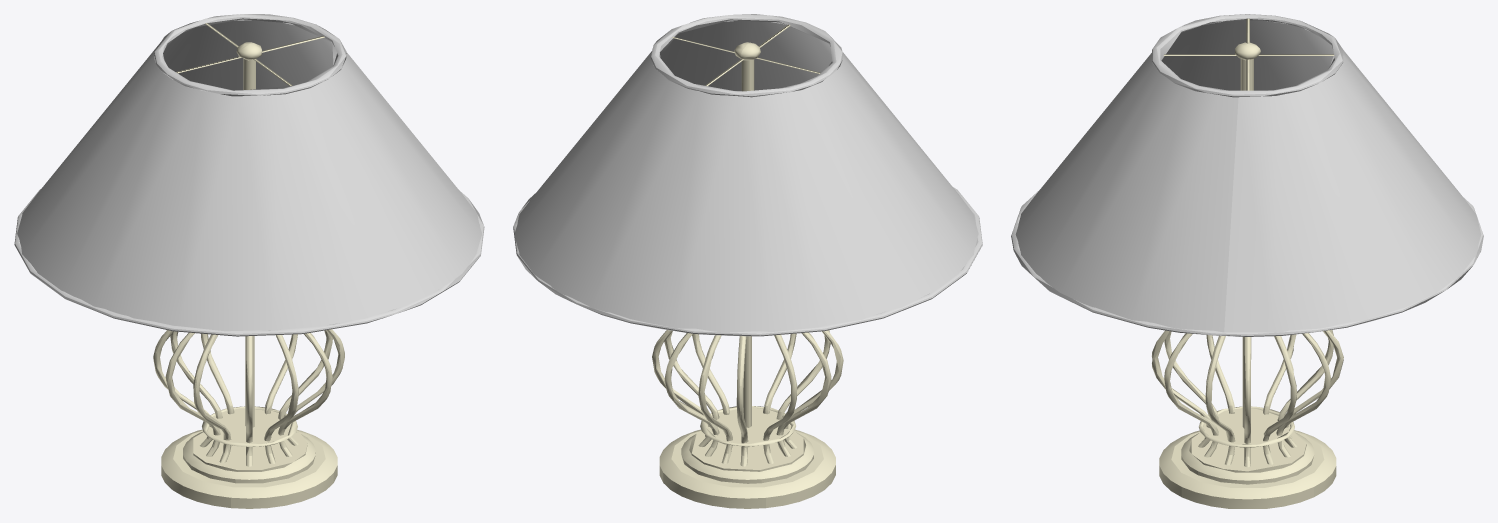
File: sh-contrib-lamp2.glb
3 views of the same model, side by side, from view 1: azimuth 30°, elevation 25°; view 2: azimuth 150°, elevation 25°; view 3: azimuth 270°, elevation 25° (orthographic).
Parts seen in each view (by area): view 1: lmp4shd_4_4, lmp4gold_3_3; view 2: lmp4shd_4_4, lmp4gold_3_3; view 3: lmp4shd_4_4, lmp4gold_3_3.
Boxes of the visible parts, x1,y1,x2,y2 form: lmp4shd_4_4: (14,14,484,336); lmp4gold_3_3: (153,23,344,508); lmp4shd_4_4: (513,14,982,336); lmp4gold_3_3: (652,24,843,508); lmp4shd_4_4: (1011,14,1483,336); lmp4gold_3_3: (1151,18,1343,508).
Size of the model in its own units: 0.9946 by 1 by 1.
